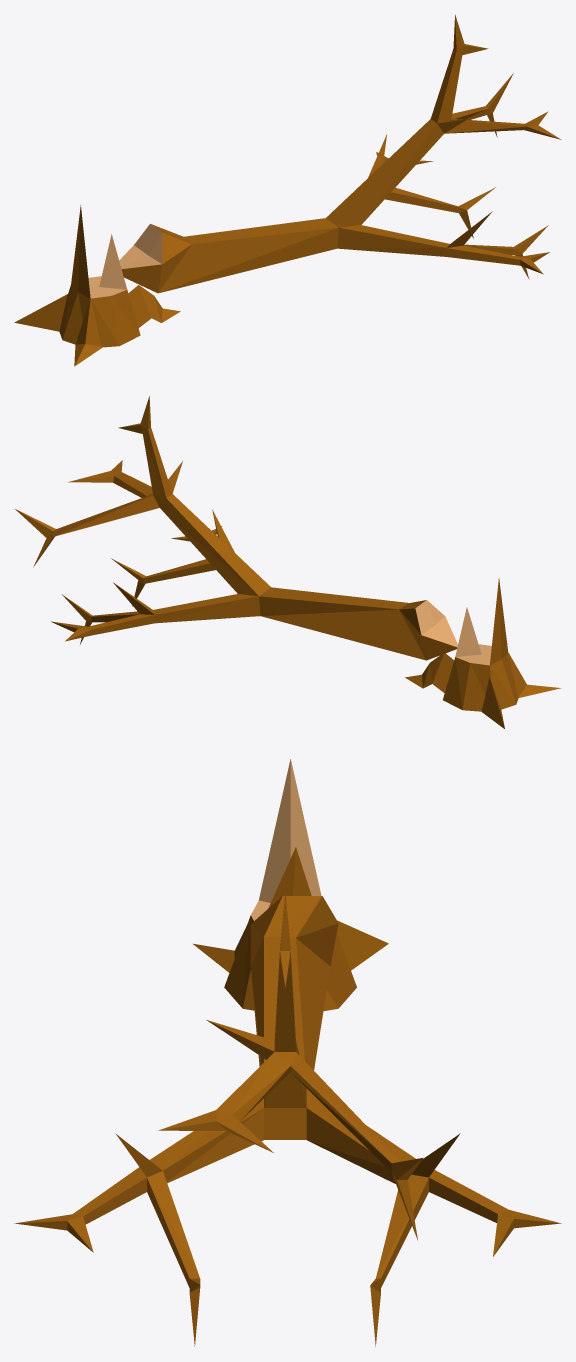
File: obj_fallen_tree_2_0.obj
3 renders of one model, top to bottom at view 1: azimuth 30°, elevation 25°; view 2: azimuth 150°, elevation 25°; view 3: azimuth 270°, elevation 25°, orthographic. The views are drawn at different scales.
Size of the model in its own units: 2.83 by 1.36 by 1.61.
